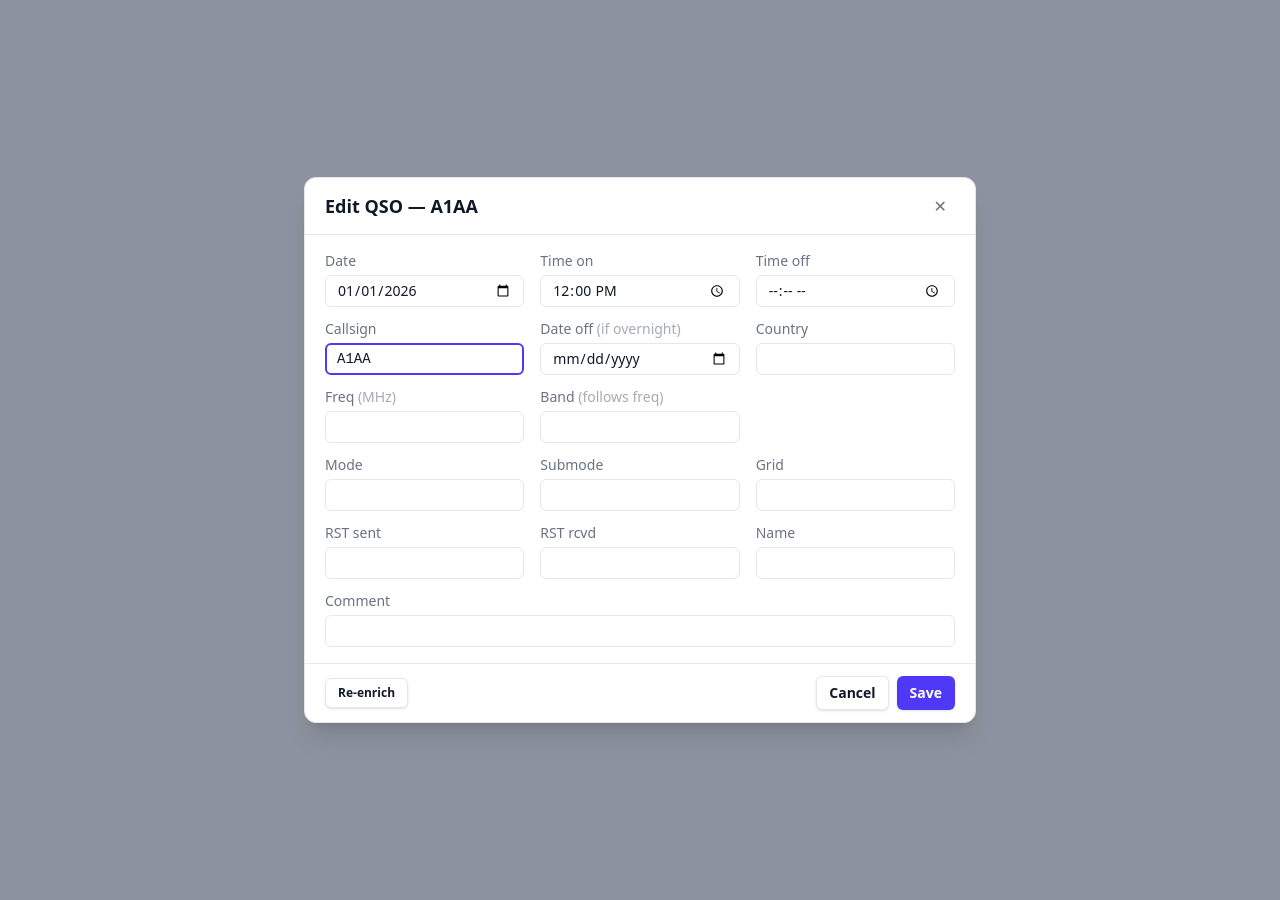
Test: EditQsoModal re-enrichment generation safety (F-02) › B can start a new lookup without waiting for the aborted A request
Click the button "Re-enrich" at (366, 693), box [325, 678, 408, 708]
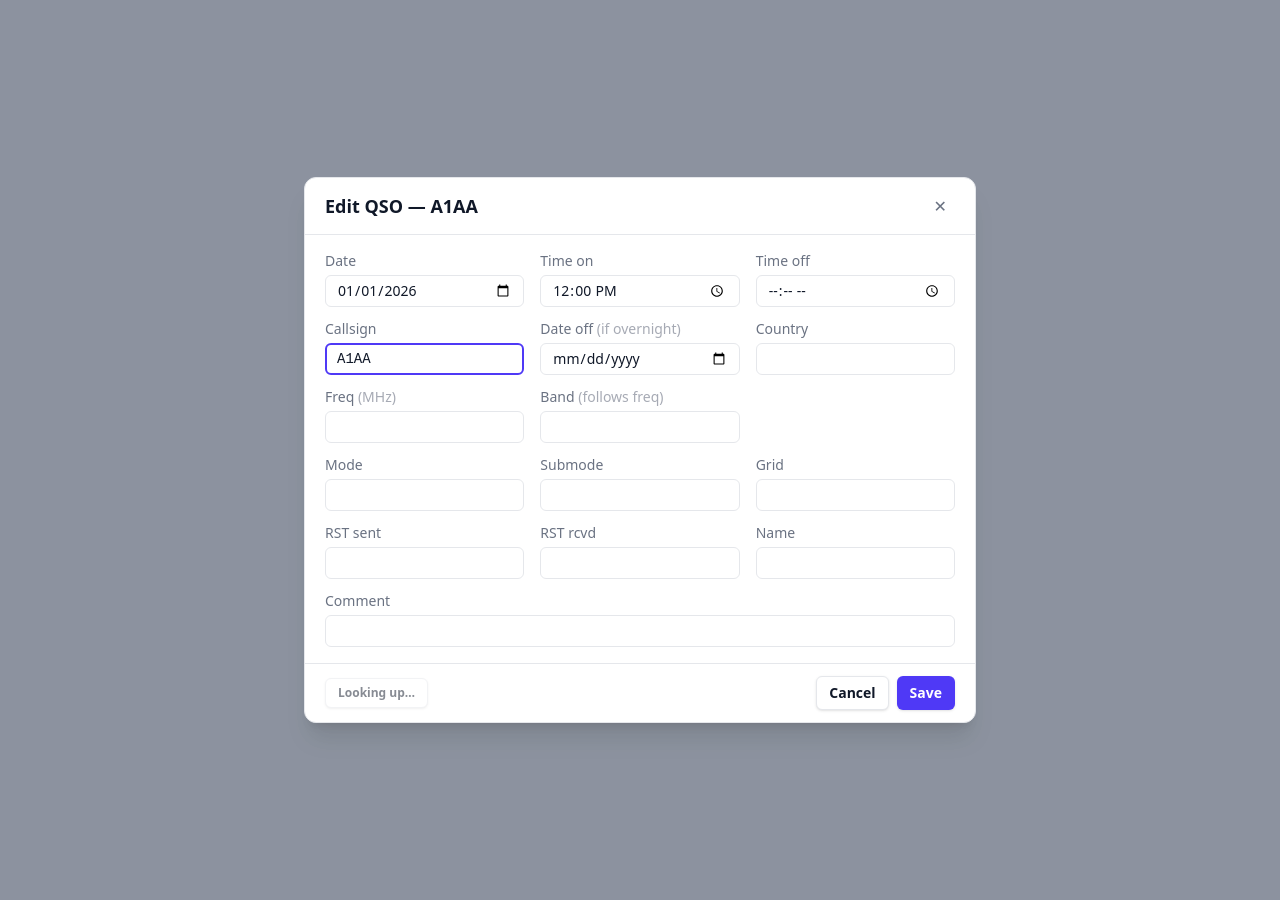
Replace the text in the field labelled "Callsign" with "B2BB" at (425, 359), box [325, 343, 524, 375]
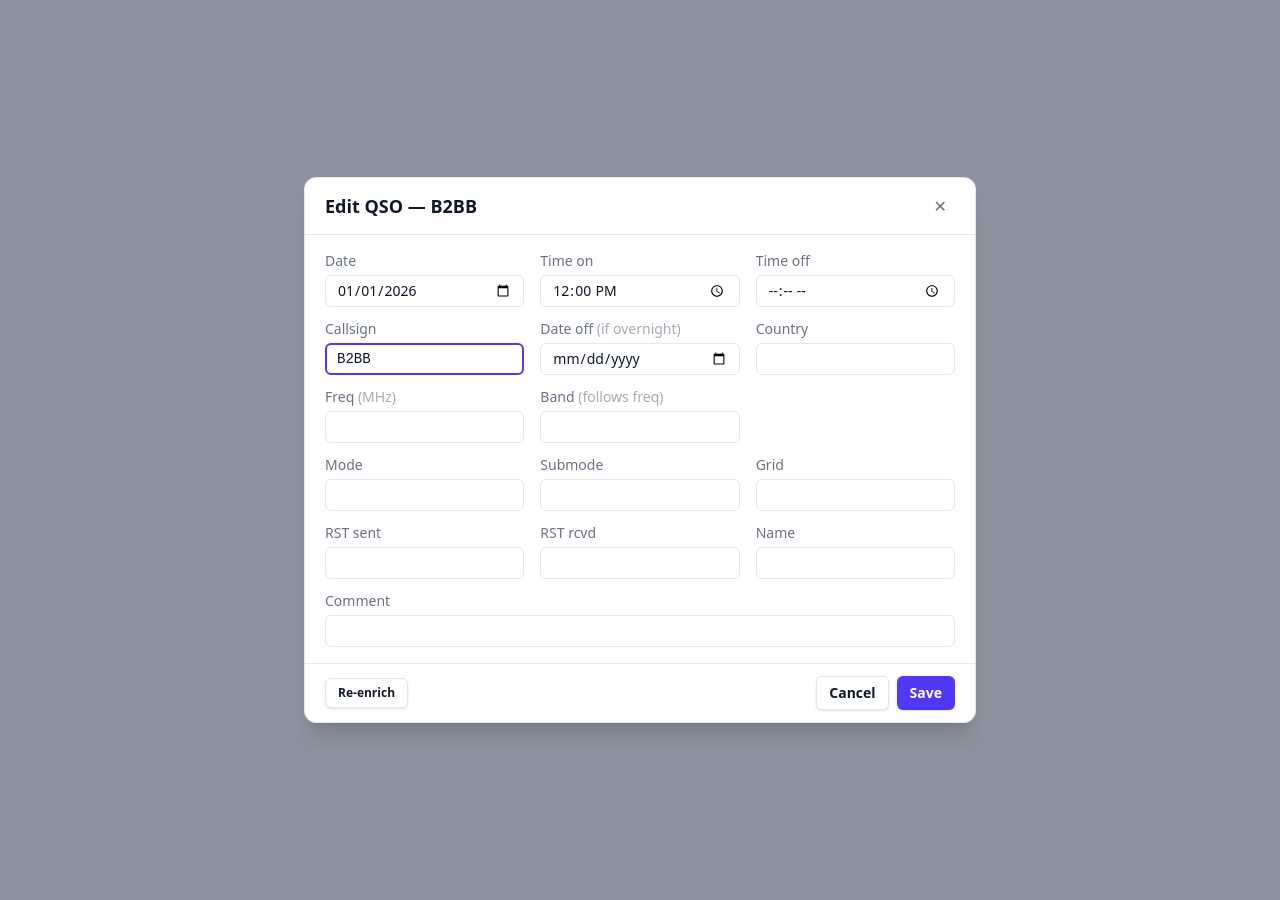
Click the button "Re-enrich" at (366, 693), box [325, 678, 408, 708]
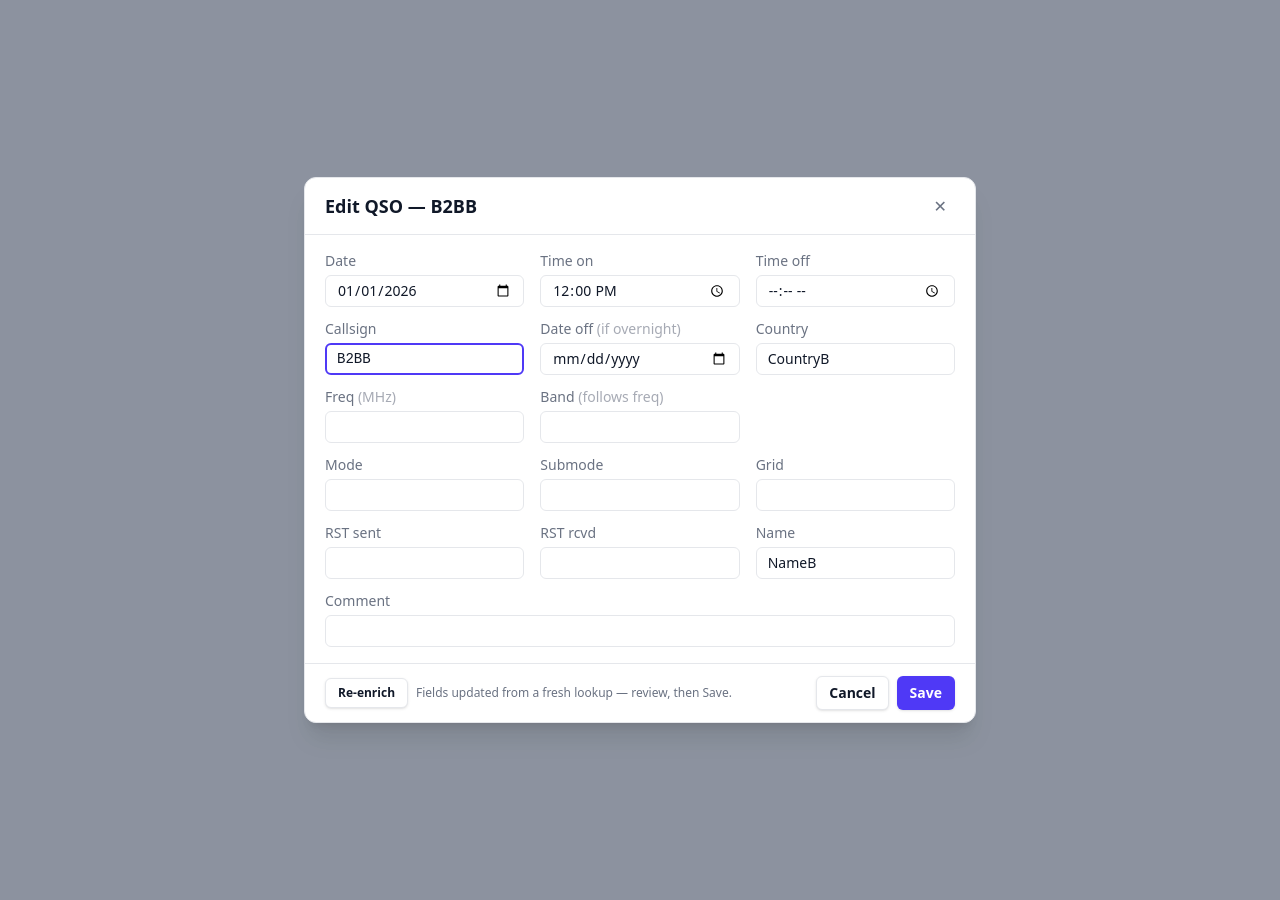
Now the field labelled "Country" holds "CountryB", box [756, 343, 955, 375]
